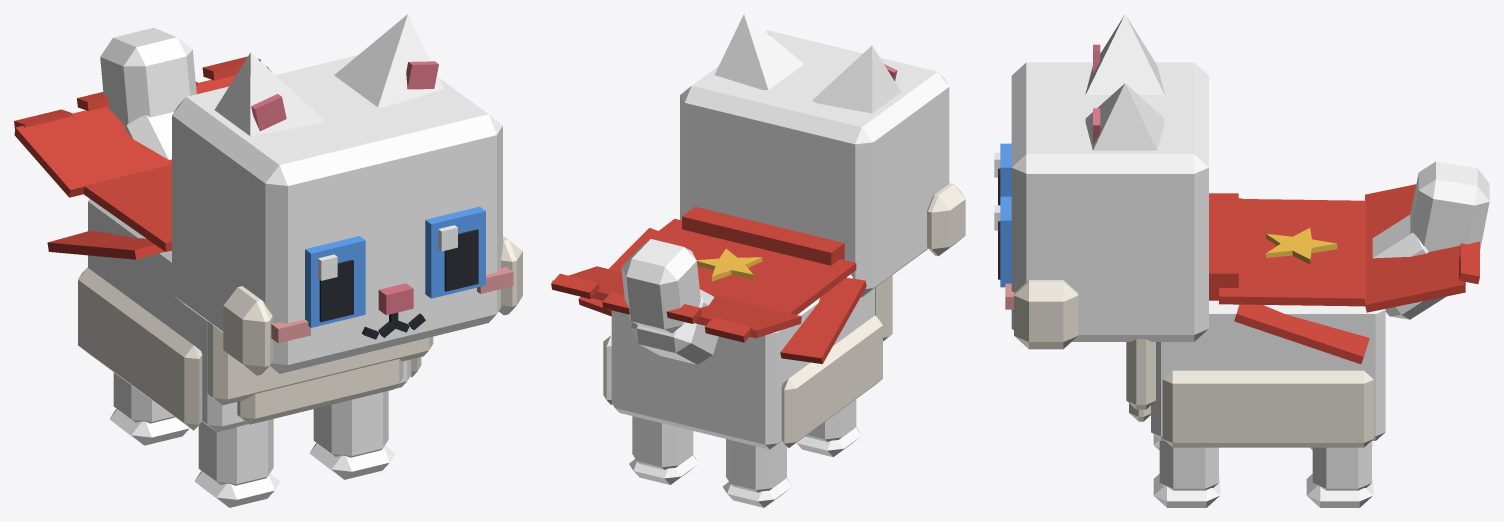
File: CatCafe_Cat_Marshmallow.glb
3 views of the same model, side by side, from view 1: azimuth 30°, elevation 25°; view 2: azimuth 150°, elevation 25°; view 3: azimuth 270°, elevation 25° (orthographic). The views are drawn at different scales.
Visible parts, largest first — view 1: CatCafe_Cat_Marshmallow_Head, CatCafe_Cat_Marshmallow_Body, CatCafe_Cat_Marshmallow_Prop, CatCafe_Cat_Marshmallow_Tail, CatCafe_Cat_Marshmallow_LegF2, CatCafe_Cat_Marshmallow_EarL, CatCafe_Cat_Marshmallow_LegF1, CatCafe_Cat_Marshmallow_Eye1, CatCafe_Cat_Marshmallow_Eye2, CatCafe_Cat_Marshmallow_EarR, CatCafe_Cat_Marshmallow_LegB2; view 2: CatCafe_Cat_Marshmallow_Head, CatCafe_Cat_Marshmallow_Body, CatCafe_Cat_Marshmallow_Prop, CatCafe_Cat_Marshmallow_Tail, CatCafe_Cat_Marshmallow_EarL, CatCafe_Cat_Marshmallow_LegB2, CatCafe_Cat_Marshmallow_LegB1, CatCafe_Cat_Marshmallow_EarR, CatCafe_Cat_Marshmallow_LegF2; view 3: CatCafe_Cat_Marshmallow_Head, CatCafe_Cat_Marshmallow_Body, CatCafe_Cat_Marshmallow_Prop, CatCafe_Cat_Marshmallow_Tail, CatCafe_Cat_Marshmallow_EarL, CatCafe_Cat_Marshmallow_EarR, CatCafe_Cat_Marshmallow_LegF1, CatCafe_Cat_Marshmallow_LegB1, CatCafe_Cat_Marshmallow_Eye1, CatCafe_Cat_Marshmallow_Eye2.
Boxes of the visible parts, left/top/right/bottom form: CatCafe_Cat_Marshmallow_Head: left=172, top=55, right=522, bottom=375; CatCafe_Cat_Marshmallow_Body: left=78, top=199, right=433, bottom=432; CatCafe_Cat_Marshmallow_Prop: left=14, top=56, right=271, bottom=259; CatCafe_Cat_Marshmallow_Tail: left=100, top=27, right=196, bottom=159; CatCafe_Cat_Marshmallow_LegF2: left=194, top=419, right=280, bottom=507; CatCafe_Cat_Marshmallow_EarL: left=334, top=14, right=443, bottom=107; CatCafe_Cat_Marshmallow_LegF1: left=309, top=391, right=395, bottom=479; CatCafe_Cat_Marshmallow_Eye1: left=425, top=206, right=485, bottom=298; CatCafe_Cat_Marshmallow_Eye2: left=305, top=236, right=365, bottom=327; CatCafe_Cat_Marshmallow_EarR: left=214, top=52, right=324, bottom=136; CatCafe_Cat_Marshmallow_LegB2: left=109, top=372, right=189, bottom=445; CatCafe_Cat_Marshmallow_Head: left=680, top=30, right=965, bottom=297; CatCafe_Cat_Marshmallow_Body: left=603, top=274, right=892, bottom=449; CatCafe_Cat_Marshmallow_Prop: left=551, top=206, right=866, bottom=363; CatCafe_Cat_Marshmallow_Tail: left=621, top=239, right=718, bottom=364; CatCafe_Cat_Marshmallow_EarL: left=714, top=14, right=803, bottom=89; CatCafe_Cat_Marshmallow_LegB2: left=722, top=439, right=792, bottom=507; CatCafe_Cat_Marshmallow_LegB1: left=629, top=416, right=698, bottom=484; CatCafe_Cat_Marshmallow_EarR: left=812, top=45, right=901, bottom=113; CatCafe_Cat_Marshmallow_LegF2: left=796, top=399, right=861, bottom=457; CatCafe_Cat_Marshmallow_Head: left=1005, top=62, right=1208, bottom=349; CatCafe_Cat_Marshmallow_Body: left=1126, top=300, right=1385, bottom=447; CatCafe_Cat_Marshmallow_Prop: left=1209, top=184, right=1479, bottom=364; CatCafe_Cat_Marshmallow_Tail: left=1372, top=161, right=1489, bottom=319; CatCafe_Cat_Marshmallow_EarL: left=1085, top=83, right=1164, bottom=150; CatCafe_Cat_Marshmallow_EarR: left=1085, top=14, right=1164, bottom=94; CatCafe_Cat_Marshmallow_LegF1: left=1153, top=440, right=1220, bottom=507; CatCafe_Cat_Marshmallow_LegB1: left=1306, top=441, right=1373, bottom=507; CatCafe_Cat_Marshmallow_Eye1: left=994, top=196, right=1011, bottom=287; CatCafe_Cat_Marshmallow_Eye2: left=994, top=143, right=1011, bottom=205.
Size of the model in its own units: 1.26 by 1.9 by 2.01.
Materials: 1 (1 with a texture image).
